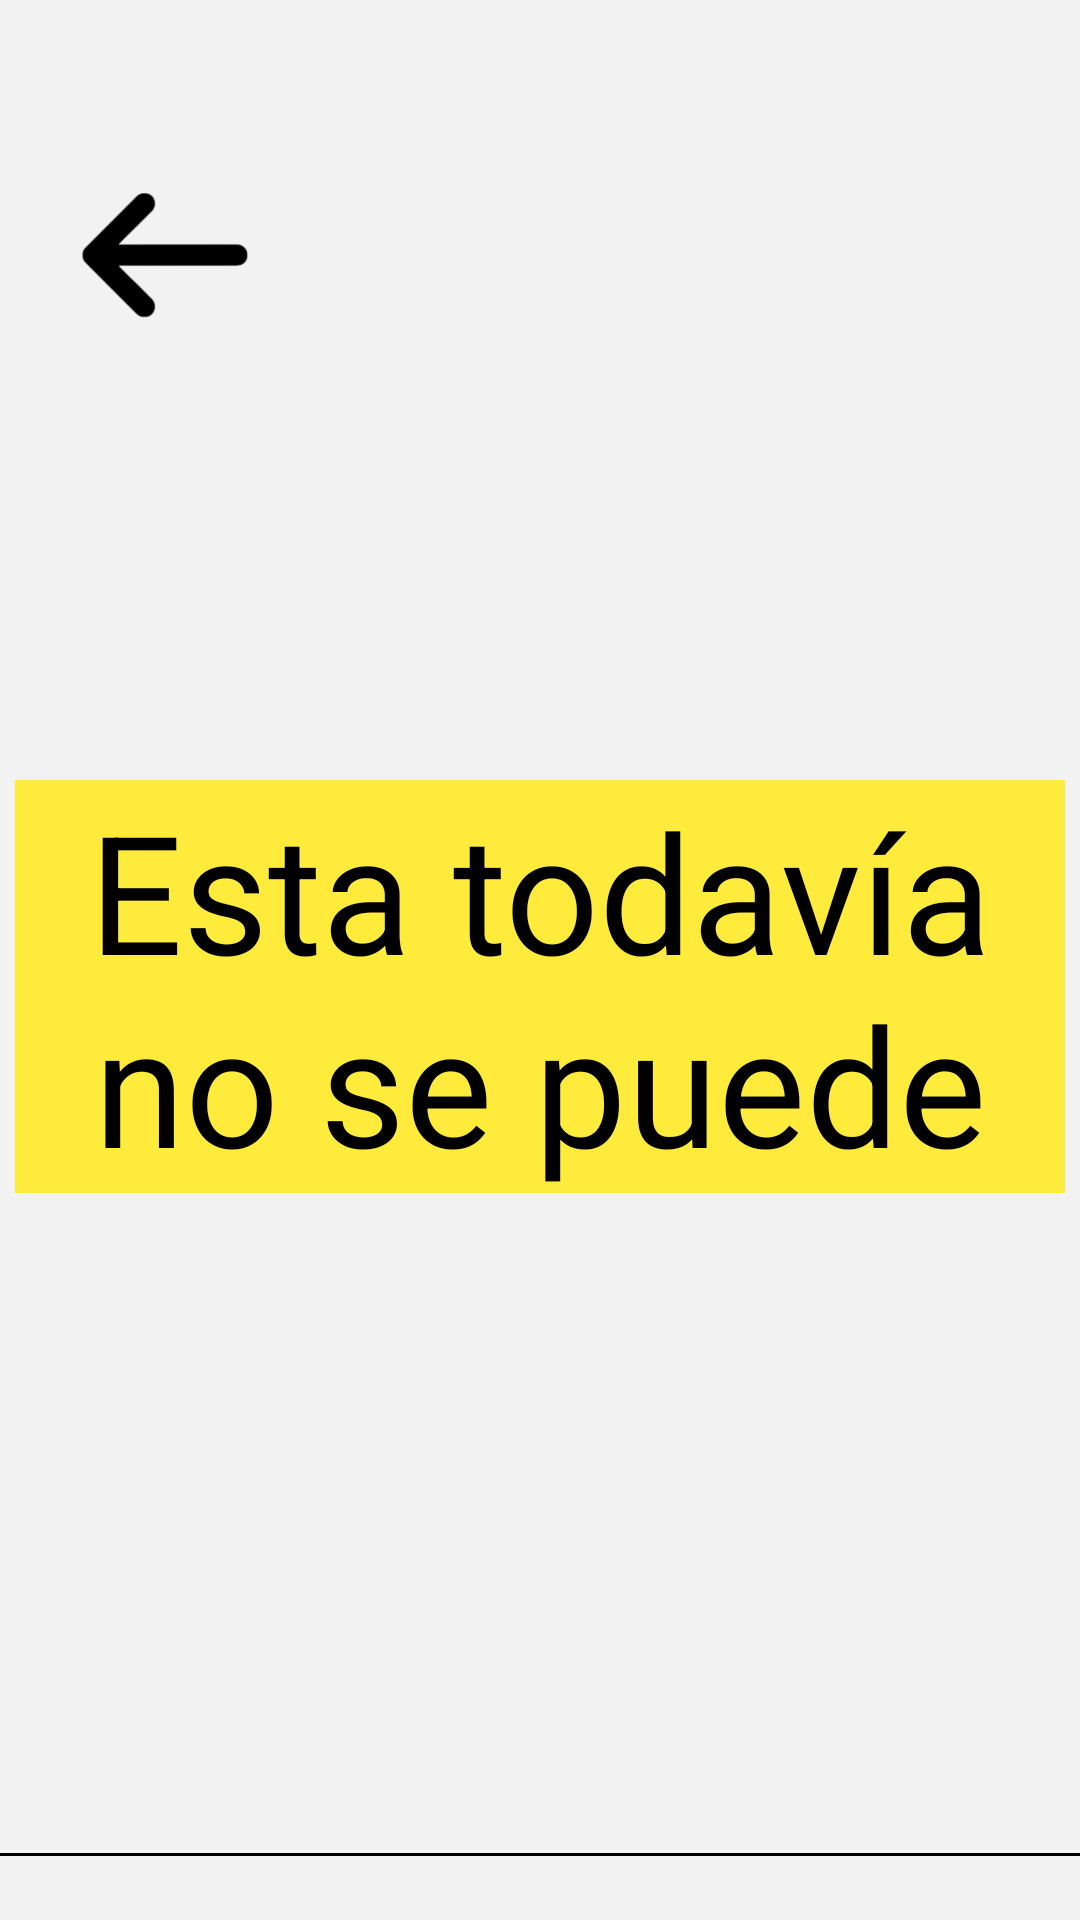

Icon click points for this 1080px x 1920px phone screenshot, format (x,y):
flecha: (165,255)
